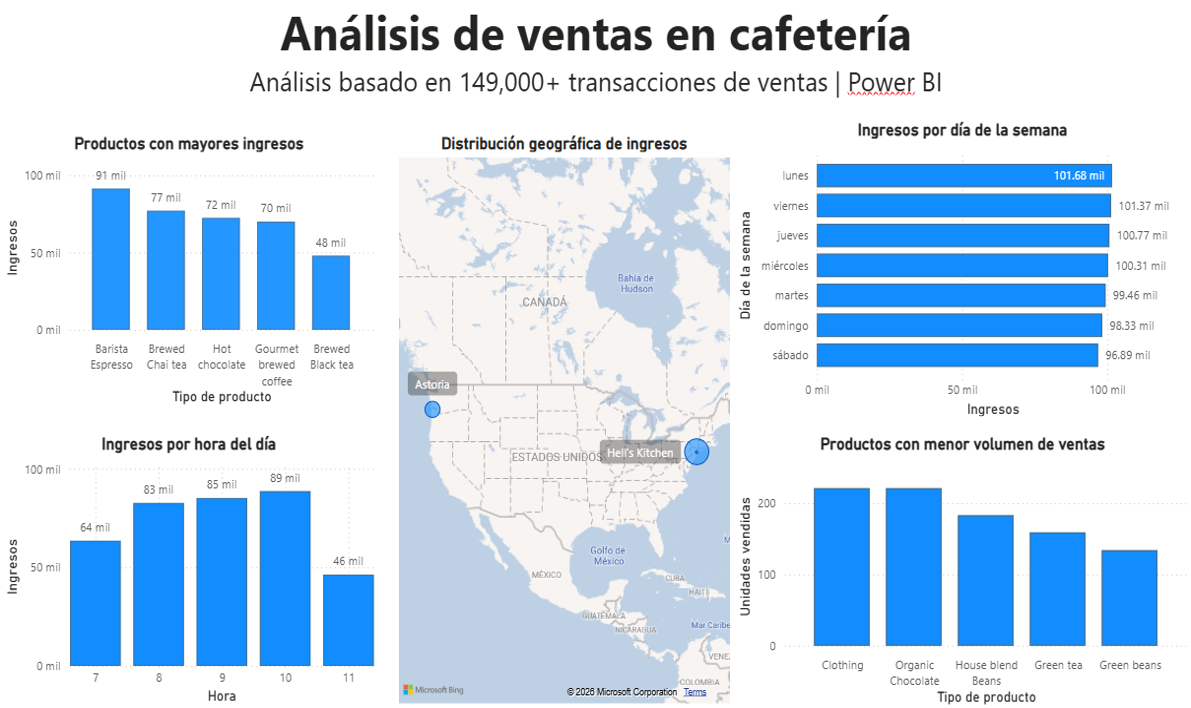

The dashboard page shown, as its layout file describes it:
{"tool":"powerbi","page":{"name":"Página 1","canvas":[1280,720],"ordinal":0},"visuals":[{"type":"columnChart","title":"Productos con mayores ingresos","fields":{"Category":["Transactions.product_type"],"Y":["Sum(Transactions.Revenue (Ingresos) )"]},"box":[0,140,406,278],"z":0},{"type":"columnChart","title":"Ingresos por hora del día","fields":{"Category":["Transactions.Hour"],"Y":["Sum(Transactions.Revenue (Ingresos) )"]},"box":[0,444,406,276],"z":1000},{"type":"clusteredBarChart","title":"Ingresos por día de la semana","fields":{"Category":["Transactions.day_of_week"],"Y":["Sum(Transactions.Revenue (Ingresos) )"]},"box":[786.7,126.7,493.3,303.3],"z":2000},{"type":"columnChart","title":"Productos con menor volumen de ventas","fields":{"Category":["Transactions.product_type"],"Y":["Sum(Transactions.transaction_qty)"]},"box":[786.7,443.3,493.3,276.7],"z":3000},{"type":"map","title":"Distribución geográfica de ingresos","fields":{"Category":["Transactions.store_location"],"Size":["Sum(Transactions.Revenue (Ingresos) )"]},"box":[422.5,140,365,580],"z":4000},{"type":"textbox","box":[0,0,1280,127.5],"z":4001}]}

Visuals, with their boxes on the page's 1280x720 design canvas (x1, y1, x2, y2). These are canvas units, not pixel positions in the 1191x708 screenshot, which may show the page scaled, cropped or inside an application window:
"Productos con mayores ingresos" columnChart: Rect(0, 140, 406, 418)
"Ingresos por hora del día" columnChart: Rect(0, 444, 406, 720)
"Ingresos por día de la semana" clusteredBarChart: Rect(787, 127, 1280, 430)
"Productos con menor volumen de ventas" columnChart: Rect(787, 443, 1280, 720)
"Distribución geográfica de ingresos" map: Rect(422, 140, 788, 720)
textbox: Rect(0, 0, 1280, 128)
